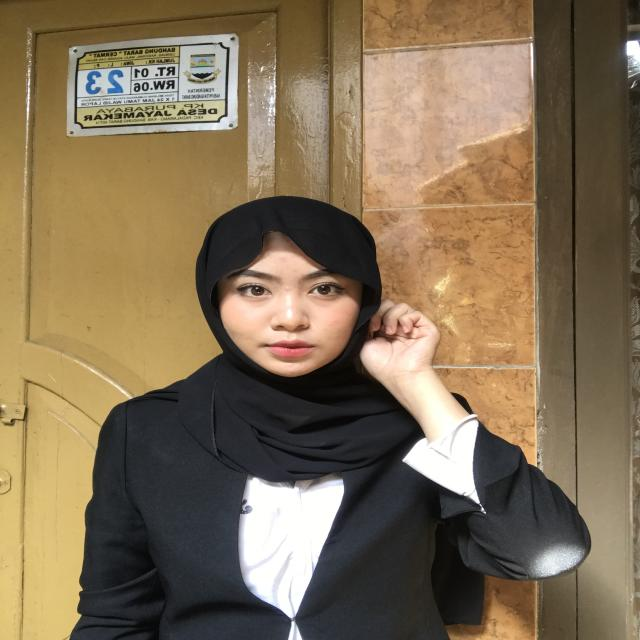ibu: (312, 294, 472, 410)
